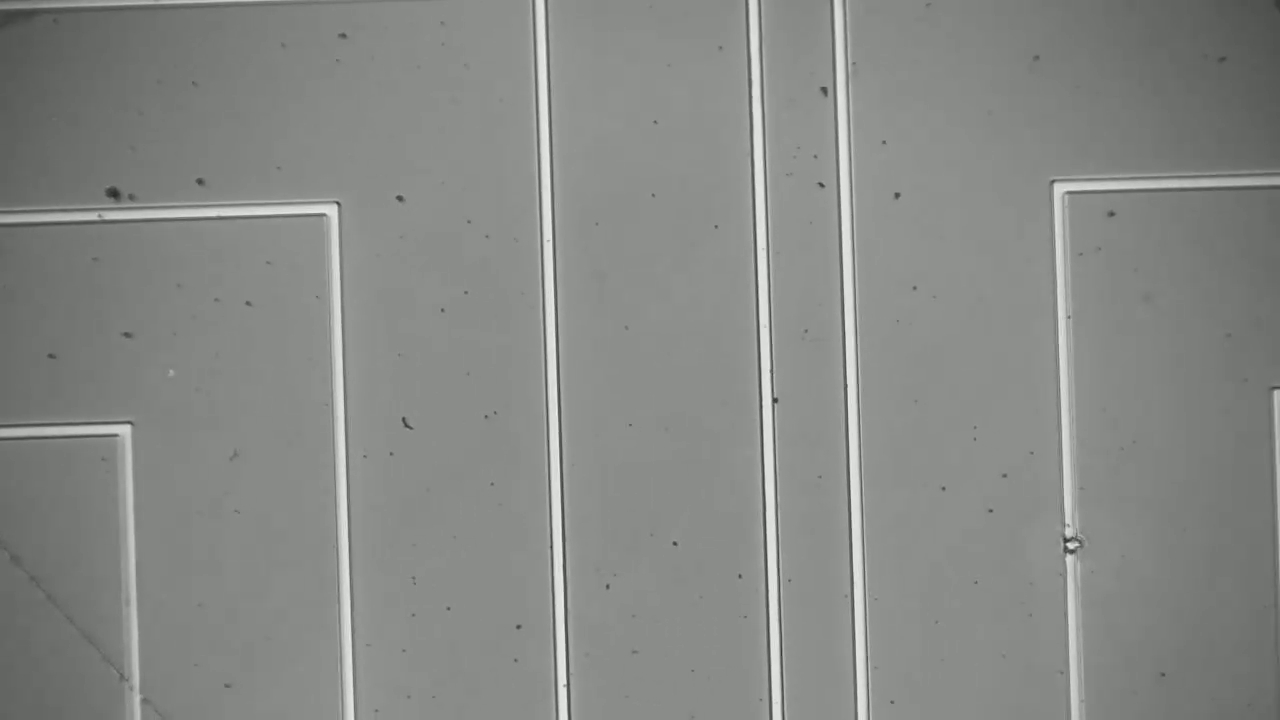scratch: (3, 555, 177, 709)
stains_enbedded: (1051, 520, 1094, 573)
